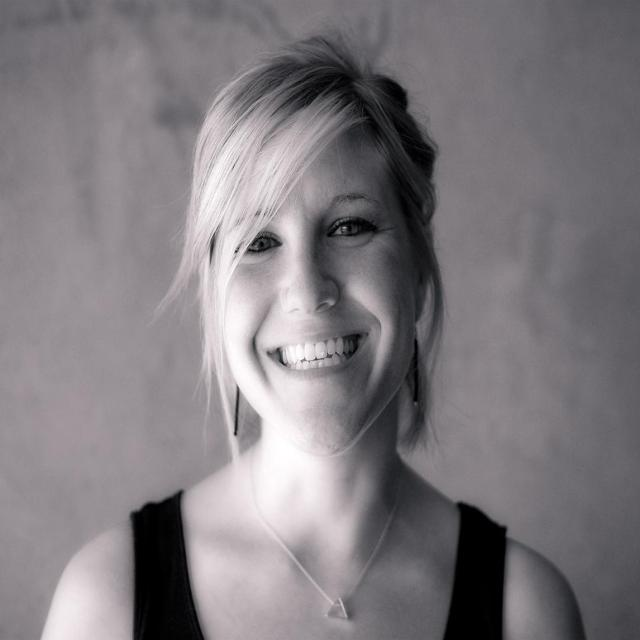no-glass: (233, 217, 377, 262)
